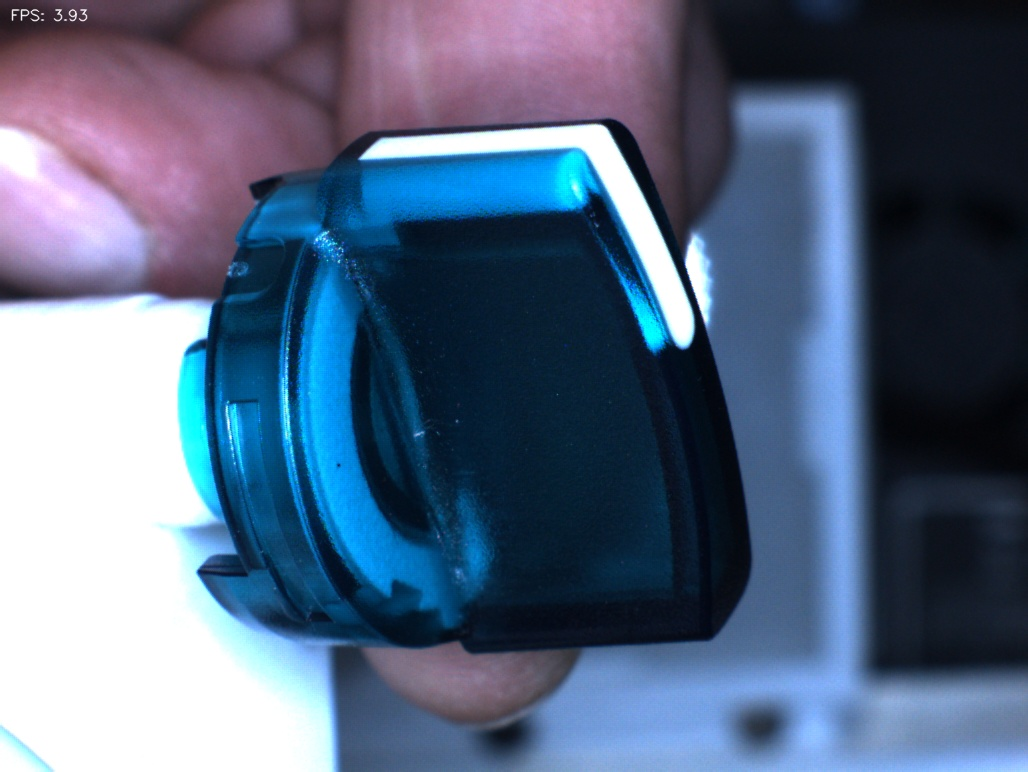PointNoir: (314, 437, 373, 505)
